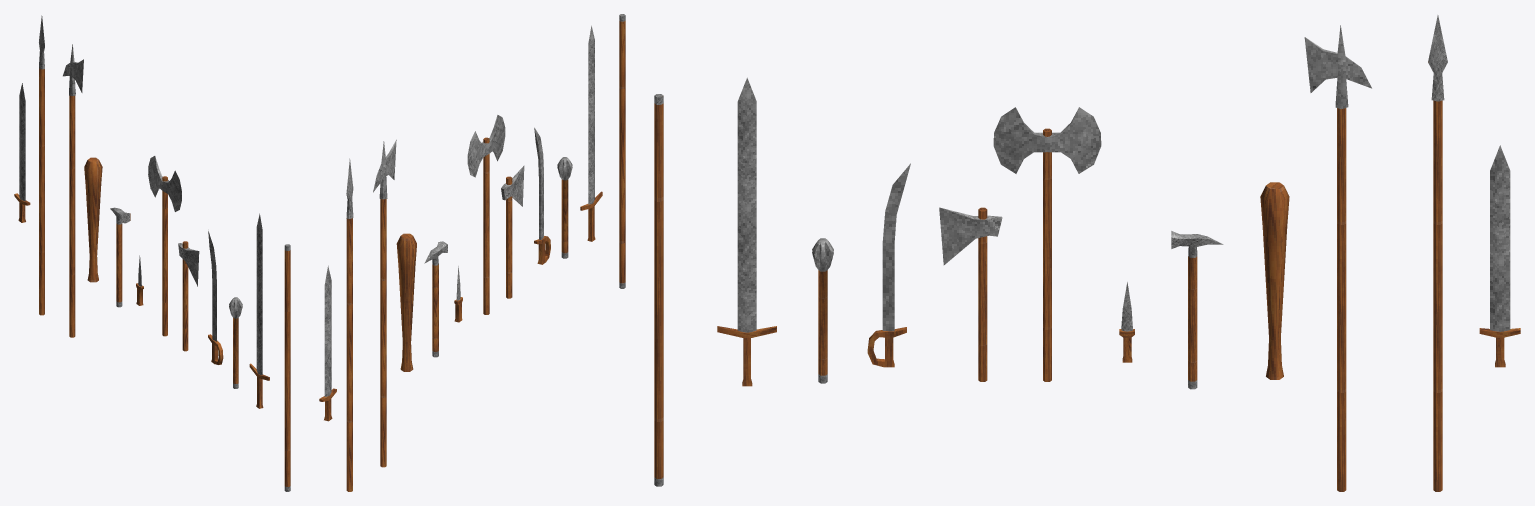
File: melee_weapons_convertido.glb
3 views of the same model, side by side, from view 1: azimuth 30°, elevation 25°; view 2: azimuth 150°, elevation 25°; view 3: azimuth 270°, elevation 25° (orthographic). The views are drawn at different scales.
Parts seen in each view (by area): view 1: Halberd, Great Axe, Spear, Staff, Club, Two-handed Sword, Axe, One-handed Sword, Warhammer, Sabre, Mace; view 2: Halberd, Great Axe, Spear, Club, Staff, Two-handed Sword, Axe, One-handed Sword, Warhammer, Sabre, Mace; view 3: Great Axe, Halberd, Two-handed Sword, Spear, One-handed Sword, Staff, Club, Axe, Sabre, Warhammer, Mace.
Part boxes in pixels (left/top/right/bottom): Halberd: left=63, top=44, right=83, bottom=337; Great Axe: left=148, top=156, right=181, bottom=336; Spear: left=39, top=15, right=44, bottom=315; Staff: left=284, top=244, right=290, bottom=491; Club: left=84, top=157, right=102, bottom=282; Two-handed Sword: left=249, top=213, right=269, bottom=408; Axe: left=178, top=241, right=199, bottom=351; One-handed Sword: left=14, top=83, right=30, bottom=222; Warhammer: left=110, top=207, right=130, bottom=307; Sabre: left=208, top=231, right=223, bottom=364; Mace: left=229, top=297, right=242, bottom=388; Halberd: left=373, top=139, right=396, bottom=467; Great Axe: left=467, top=115, right=505, bottom=314; Spear: left=346, top=158, right=353, bottom=491; Club: left=396, top=233, right=416, bottom=371; Staff: left=619, top=14, right=625, bottom=288; Two-handed Sword: left=580, top=25, right=602, bottom=241; Axe: left=501, top=165, right=524, bottom=298; One-handed Sword: left=319, top=265, right=336, bottom=421; Warhammer: left=424, top=241, right=447, bottom=357; Sabre: left=534, top=127, right=550, bottom=264; Mace: left=557, top=157, right=572, bottom=258; Great Axe: left=993, top=107, right=1101, bottom=381; Halberd: left=1304, top=25, right=1371, bottom=491; Two-handed Sword: left=717, top=77, right=776, bottom=386; Spear: left=1428, top=15, right=1447, bottom=491; One-handed Sword: left=1479, top=145, right=1520, bottom=367; Staff: left=654, top=94, right=663, bottom=486; Club: left=1260, top=182, right=1289, bottom=379; Axe: left=939, top=207, right=1002, bottom=381; Sabre: left=867, top=163, right=910, bottom=367; Warhammer: left=1171, top=231, right=1223, bottom=389; Mace: left=812, top=238, right=833, bottom=383.
Bounding box in the file's own units: 0.1099 × 2.29 × 3.77.
Materials: 1 (1 with a texture image).
